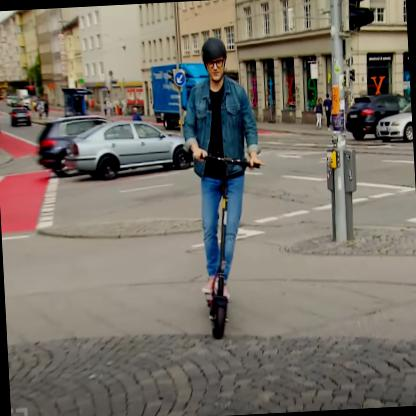helmet: (198, 37, 228, 84)
human: (182, 36, 248, 297)
kickboard: (199, 290, 231, 338)
